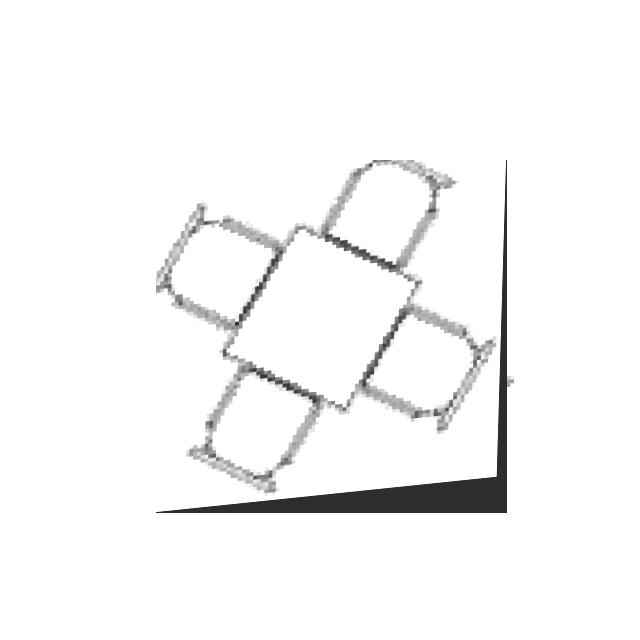table: (156, 160, 507, 513)
